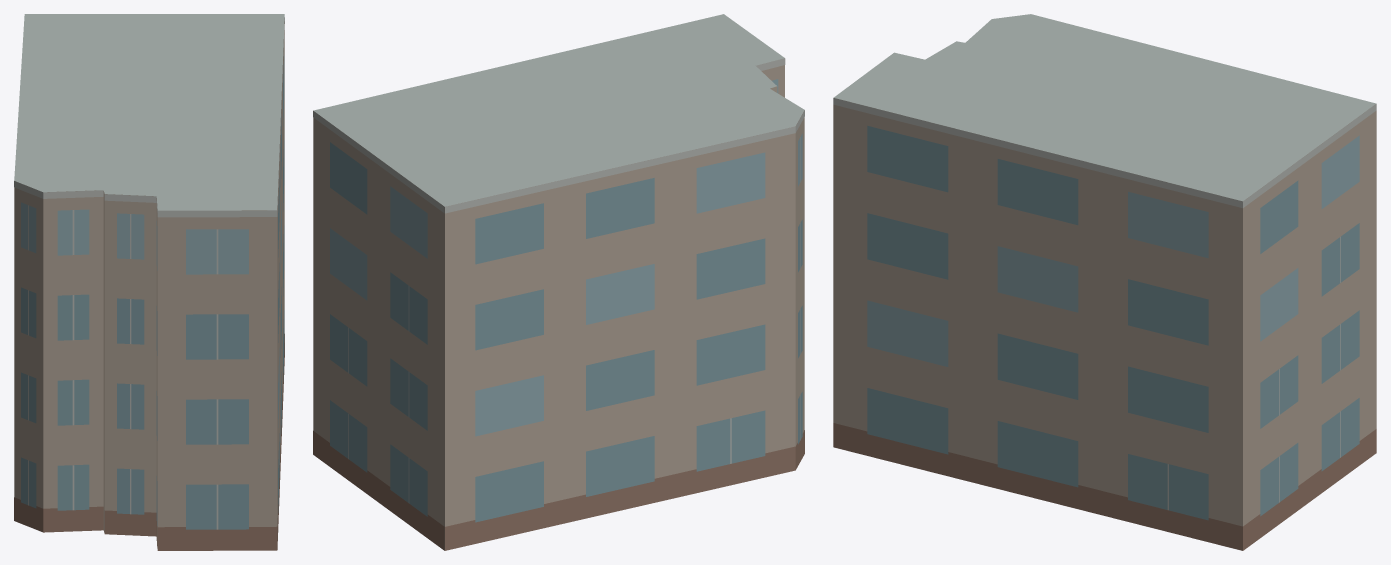
The model's file is survey-upis-32722736.glb.
The picture shows the model from 3 angles, left to right: view 1: azimuth 30°, elevation 25°; view 2: azimuth 150°, elevation 25°; view 3: azimuth 270°, elevation 25°; orthographic projection. The views are drawn at different scales.
Parts seen in each view (by area): view 1: survey-upis-32722736.tmp; view 2: survey-upis-32722736.tmp; view 3: survey-upis-32722736.tmp.
Boxes of the visible parts, x1,y1,x2,y2 form: survey-upis-32722736.tmp: (14, 14, 284, 550); survey-upis-32722736.tmp: (313, 14, 804, 550); survey-upis-32722736.tmp: (833, 14, 1376, 550).
Bounding box in the file's own units: 14.27 × 12.4 × 17.47.
